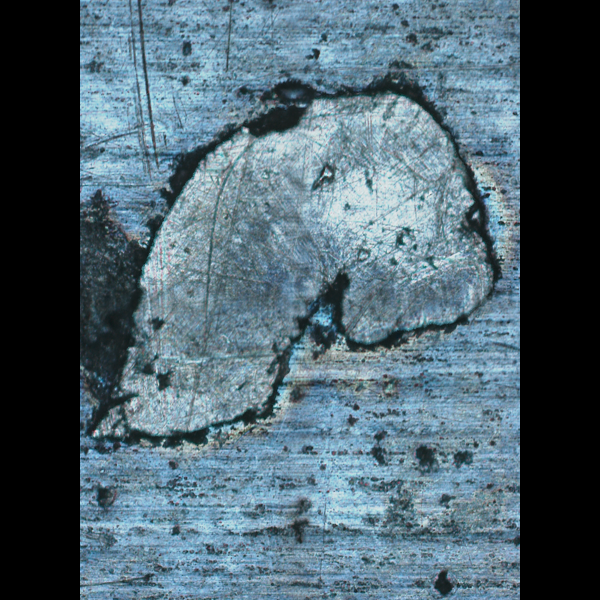d: (87, 75, 501, 455)
